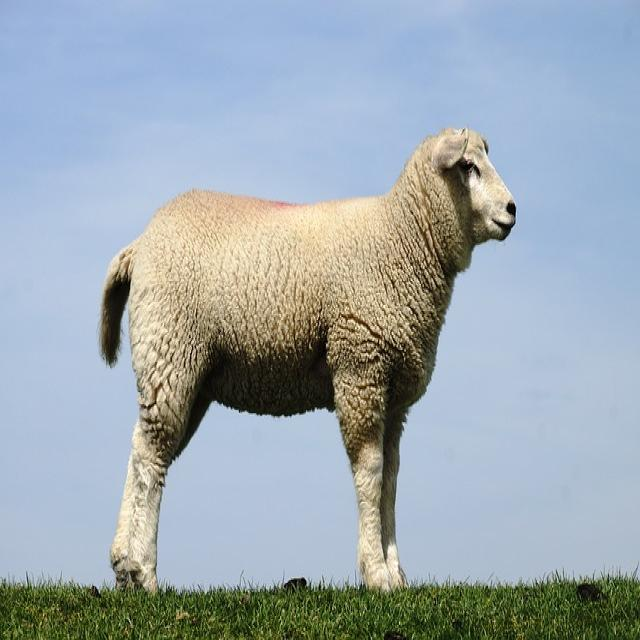goat: (100, 128, 515, 592)
